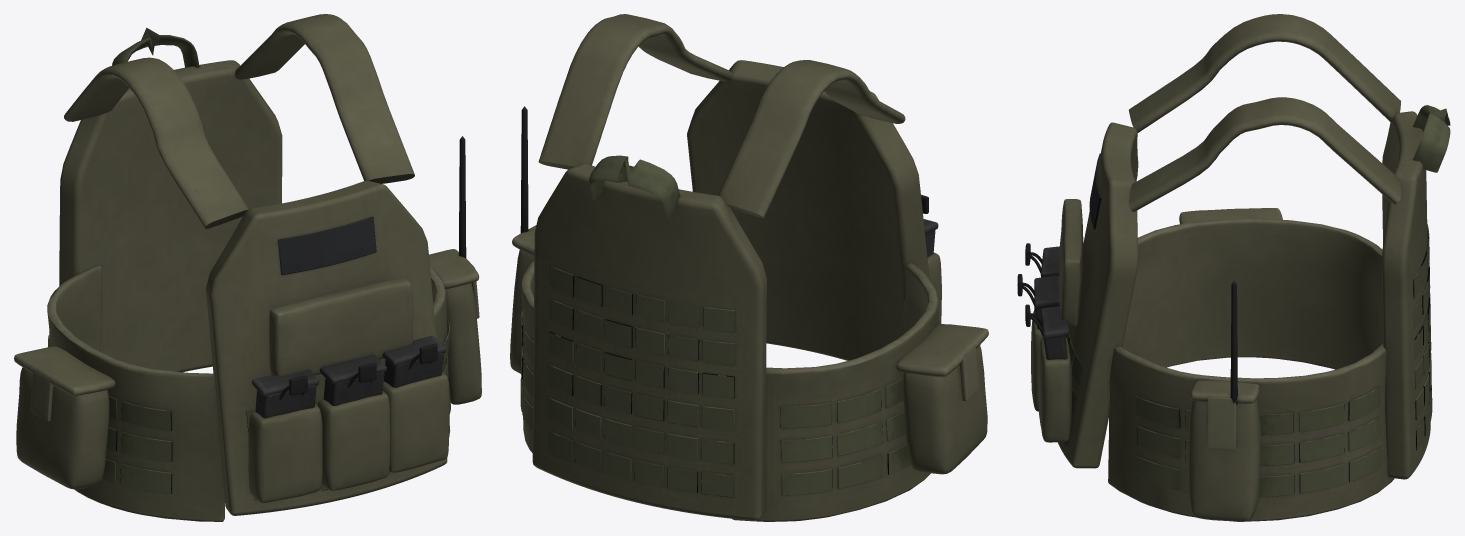
Rendered from vest_3.glb.
3 renders of one model, left to right at view 1: azimuth 30°, elevation 25°; view 2: azimuth 150°, elevation 25°; view 3: azimuth 270°, elevation 25°, orthographic. The views are drawn at different scales.
Visible parts, largest first — view 1: body; view 2: body; view 3: body.
Boxes of the visible parts, x1=… form: body: x1=14, y1=14, x2=481, y2=521; body: x1=510, y1=14, x2=988, y2=521; body: x1=1017, y1=14, x2=1450, y2=521.
Bounding box in the file's own units: 0.5502 × 0.4704 × 0.4923.
Materials: 1 (1 with a texture image).
